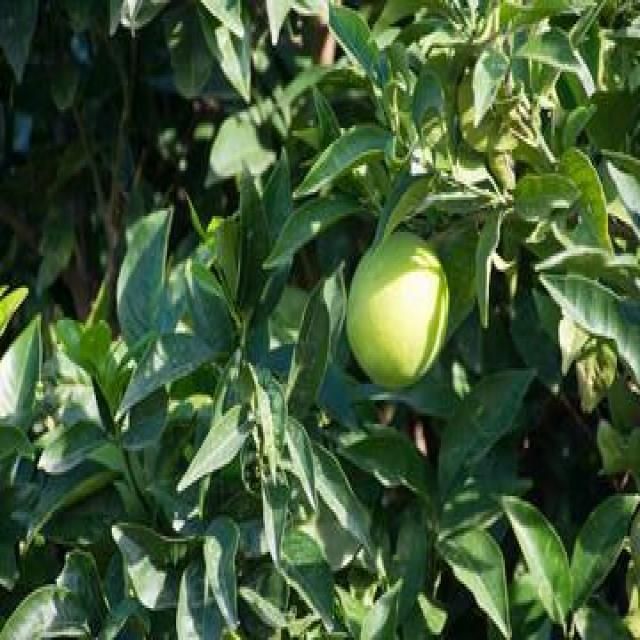Jeruk Belum Matang: (344, 229, 452, 392)
